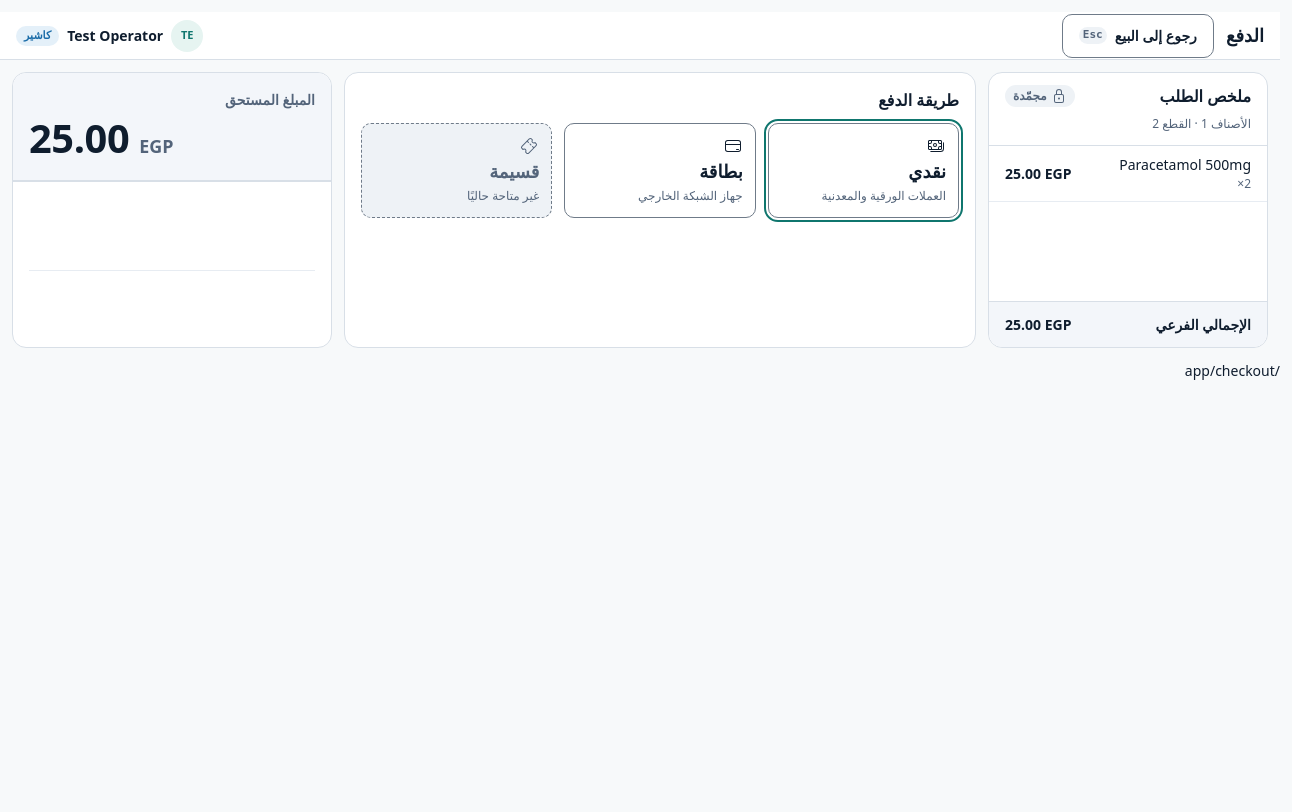
Scenario: CheckoutRoute — Back to the same sale (RT-26) › is disabled while a payment start is in flight
This screenshot has width=1292, height=812.
Click the radio button with test id "tender-cash".
click(863, 170)  # box [768,123,959,218]
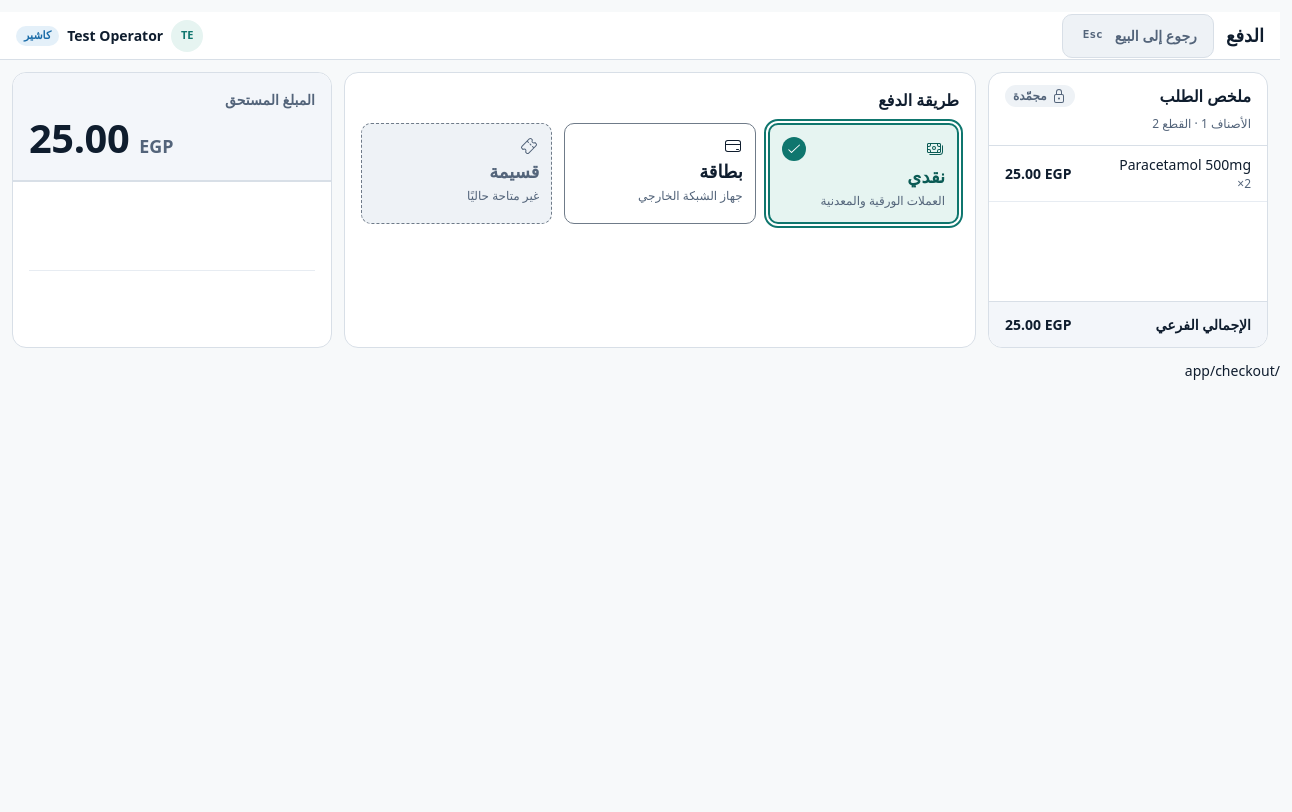
Check: the button with test id "payment-surface-back" is disabled, box [1062,14,1214,58]
Press Escape
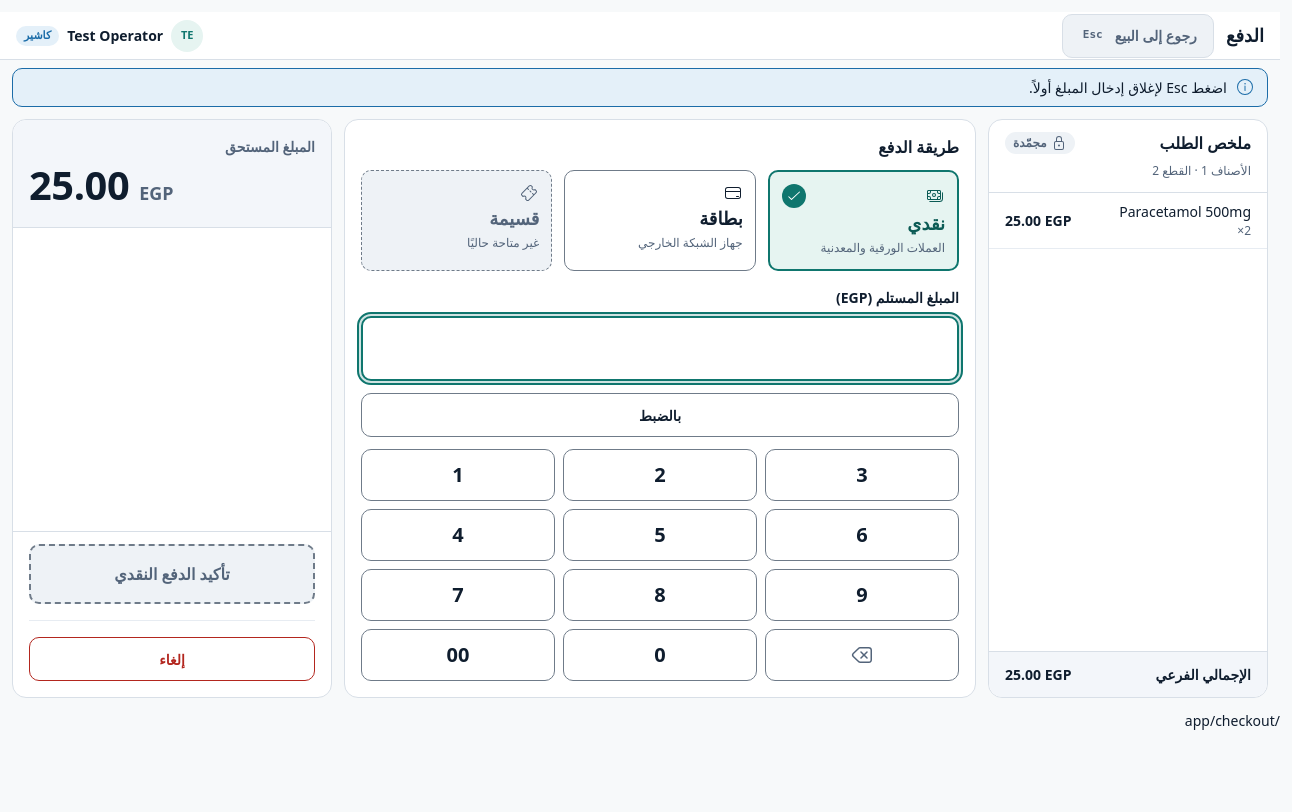
Check: the button with test id "payment-surface-back" is disabled, box [1062,14,1214,58]
Check: the element with test id "payment-surface-entry" is shown, box [361,287,959,681]
